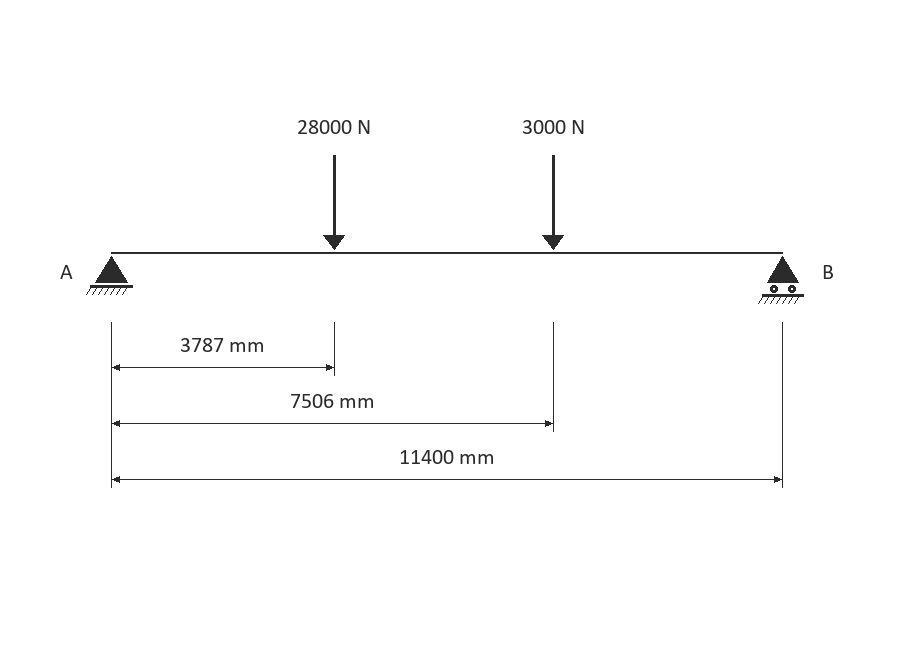pin_support: (86, 256, 133, 295)
point_load: (323, 155, 345, 250), (542, 155, 564, 250)
roller_support: (758, 256, 804, 304)
